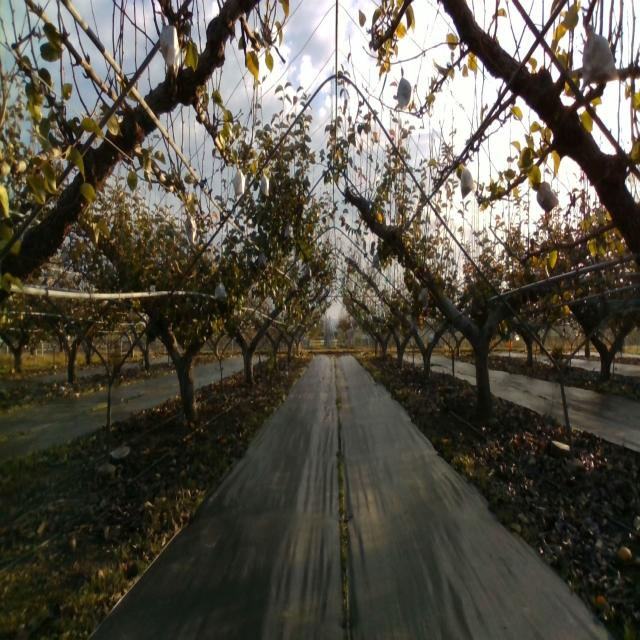pearbags: (580, 24, 618, 95), (159, 12, 180, 79), (537, 181, 559, 214), (397, 67, 412, 111), (184, 205, 197, 245), (460, 166, 474, 198), (233, 163, 245, 196), (214, 276, 227, 302), (260, 168, 269, 198), (418, 286, 429, 306)
